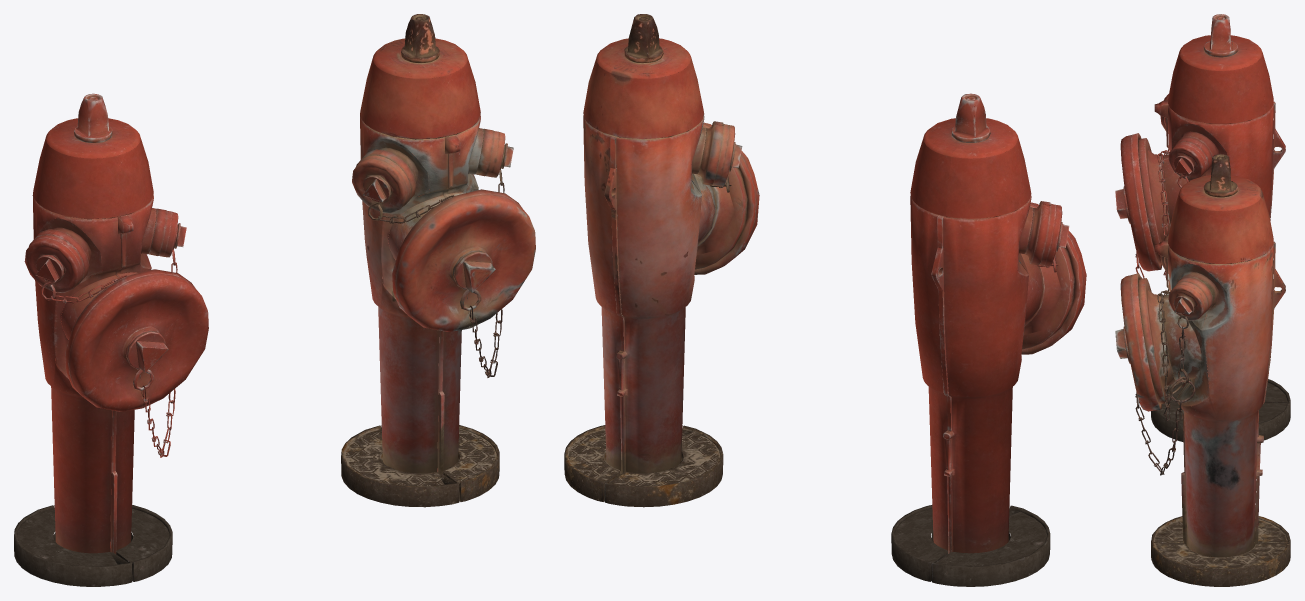
Rendered from fire_hydrant.glb.
3 views of the same model, side by side, from view 1: azimuth 30°, elevation 25°; view 2: azimuth 150°, elevation 25°; view 3: azimuth 270°, elevation 25° (orthographic). The views are drawn at different scales.
Parts seen in each view (by area): view 1: fire_hydrant, fire_hydrant_aged, fire_hydrant_cap_01_aged, fire_hydrant_cap_01, fire_hydrant_cap_03_aged, fire_hydrant_cap_03, fire_hydrant_chain, fire_hydrant_chain_aged, fire_hydrant_cap_02, fire_hydrant_cap_02_aged; view 2: fire_hydrant, fire_hydrant_aged, fire_hydrant_cap_01, fire_hydrant_cap_01_aged, fire_hydrant_cap_03, fire_hydrant_cap_03_aged; view 3: fire_hydrant_aged, fire_hydrant, fire_hydrant_cap_01, fire_hydrant_cap_01_aged, fire_hydrant_chain_aged, fire_hydrant_cap_02_aged, fire_hydrant_cap_02, fire_hydrant_chain.
Part boxes in pixels (left/top/right/bottom): fire_hydrant: left=14, top=93, right=172, bottom=586; fire_hydrant_aged: left=341, top=14, right=499, bottom=507; fire_hydrant_cap_01_aged: left=392, top=189, right=535, bottom=331; fire_hydrant_cap_01: left=65, top=269, right=208, bottom=411; fire_hydrant_cap_03_aged: left=352, top=155, right=410, bottom=213; fire_hydrant_cap_03: left=24, top=235, right=83, bottom=292; fire_hydrant_chain: left=39, top=225, right=178, bottom=457; fire_hydrant_chain_aged: left=366, top=145, right=505, bottom=377; fire_hydrant_cap_02: left=158, top=211, right=186, bottom=257; fire_hydrant_cap_02_aged: left=486, top=131, right=513, bottom=177; fire_hydrant: left=891, top=93, right=1074, bottom=586; fire_hydrant_aged: left=564, top=14, right=747, bottom=507; fire_hydrant_cap_01: left=1021, top=202, right=1086, bottom=354; fire_hydrant_cap_01_aged: left=694, top=122, right=759, bottom=274; fire_hydrant_cap_03: left=1039, top=203, right=1069, bottom=266; fire_hydrant_cap_03_aged: left=712, top=124, right=742, bottom=186; fire_hydrant_aged: left=1138, top=154, right=1290, bottom=586; fire_hydrant: left=1138, top=14, right=1290, bottom=441; fire_hydrant_cap_01: left=1115, top=133, right=1161, bottom=271; fire_hydrant_cap_01_aged: left=1115, top=273, right=1161, bottom=411; fire_hydrant_chain_aged: left=1135, top=289, right=1195, bottom=475; fire_hydrant_cap_02_aged: left=1168, top=281, right=1207, bottom=320; fire_hydrant_cap_02: left=1168, top=141, right=1207, bottom=180; fire_hydrant_chain: left=1135, top=149, right=1193, bottom=280.
Size of the model in its own units: 0.8745 by 0.7999 by 0.3176.
Materials: 2 (2 with a texture image).
